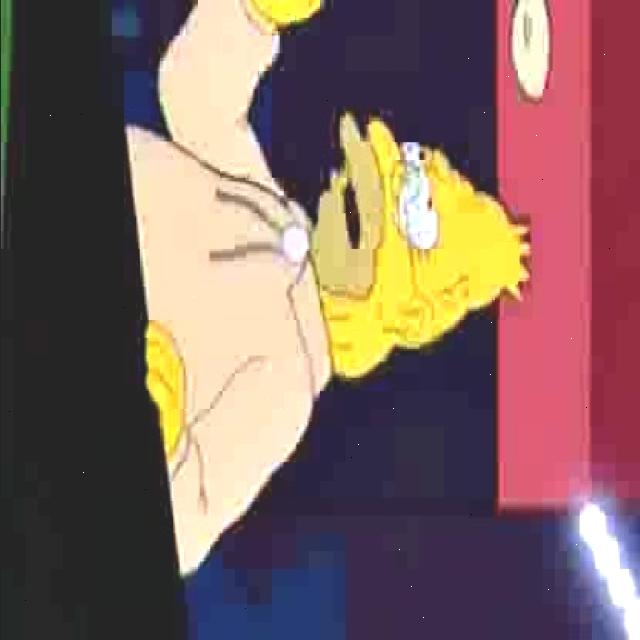Abraham Grampa Simpson: (312, 117, 534, 386)
